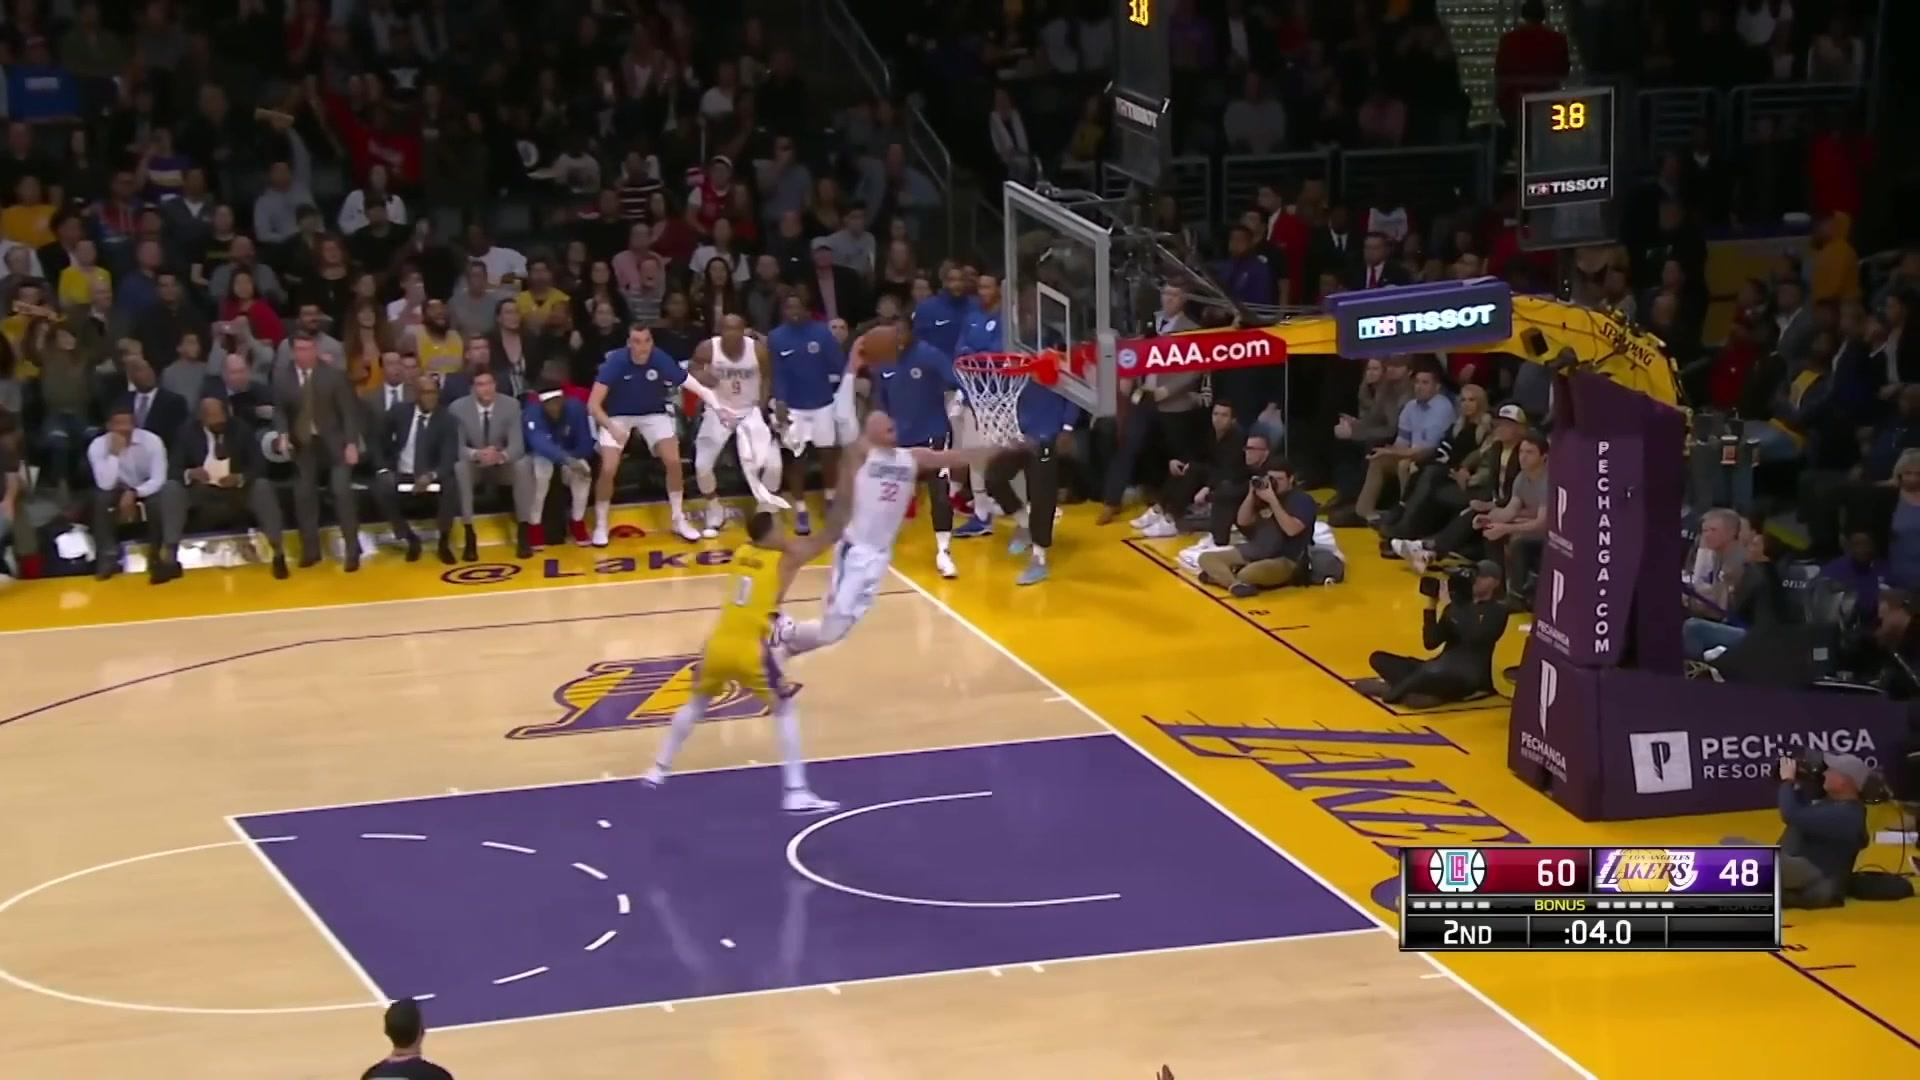foul: (661, 407, 955, 799)
